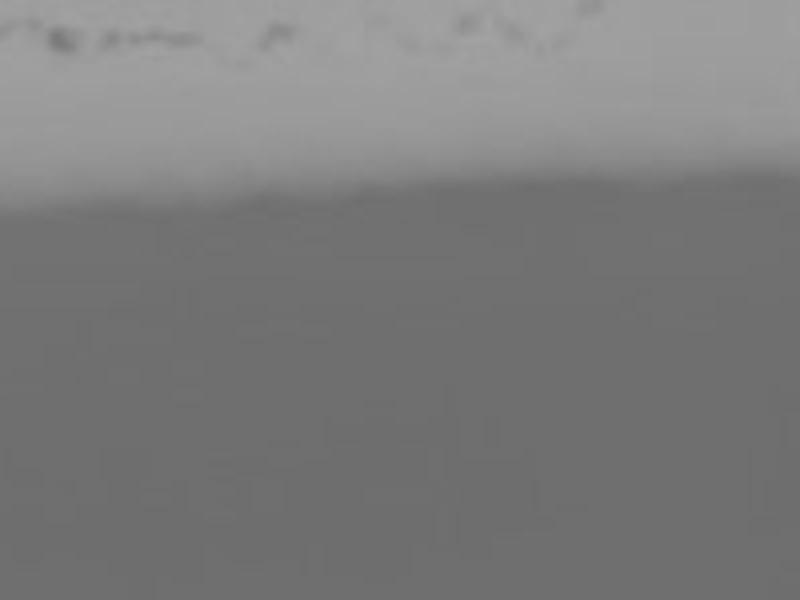defect: (450, 8, 487, 40), (264, 20, 298, 52), (49, 26, 82, 58), (499, 23, 524, 50), (161, 31, 206, 45), (577, 1, 604, 23), (1, 17, 20, 42), (101, 25, 116, 51), (125, 34, 144, 54), (142, 24, 163, 41), (533, 40, 551, 59), (27, 14, 43, 31)
